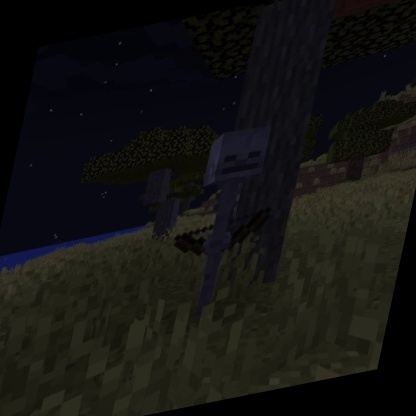skeleton: (151, 114, 297, 328)
